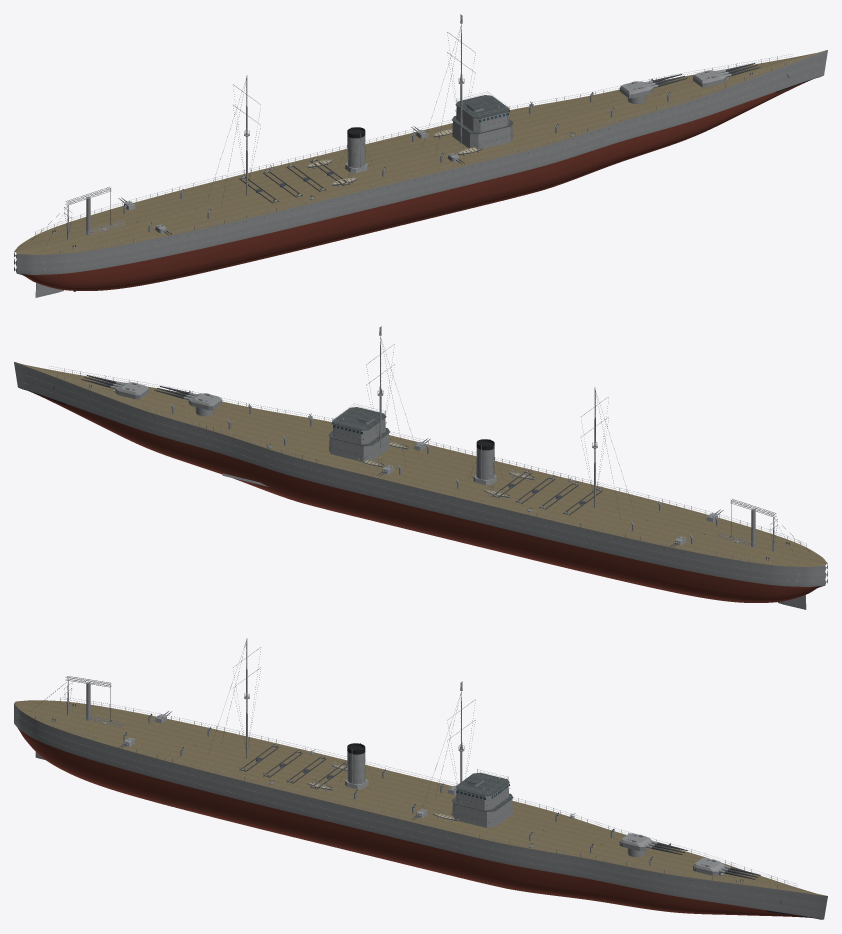
The model's file is seeadler_raider.glb.
The picture shows the model from 3 angles, top to bottom: view 1: azimuth 30°, elevation 25°; view 2: azimuth 150°, elevation 25°; view 3: azimuth 330°, elevation 25°; orthographic projection.
Visible parts, largest first — view 1: Seeadler class; view 2: Seeadler class; view 3: Seeadler class.
Boxes of the visible parts, bbox=[...] form: Seeadler class: bbox=[14, 14, 827, 297]; Seeadler class: bbox=[14, 326, 827, 609]; Seeadler class: bbox=[14, 638, 827, 919].
Bounding box in the file's own units: 224 × 47.89 × 24.4.
9 materials, 8 textured.
